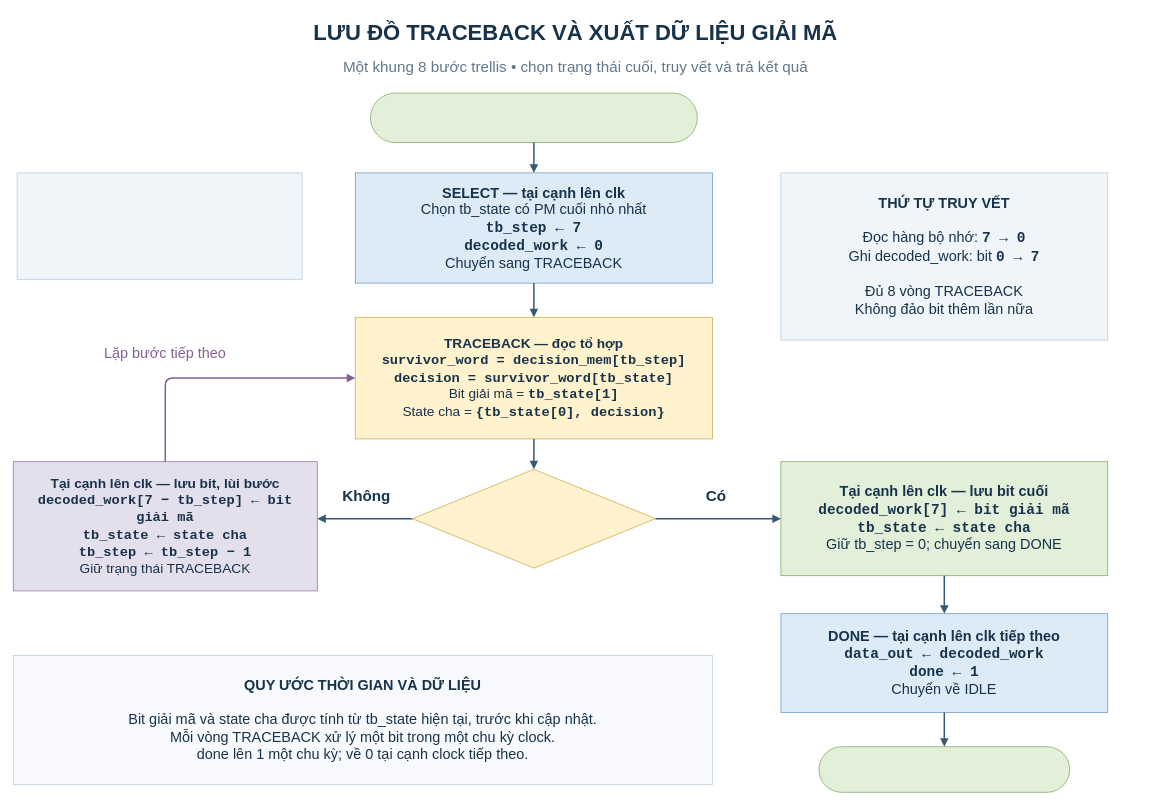
This 1151x806 diagram has some shape labels left out. The centre of each missing label's shape, as x and y in pixels:
"Hoàn tất giải mã khung" belongs at point 944,769.
"PHÁ HÒA KHI CHỌN PM CUỐI Ưu tiên trạng thái: 00 → 01 → 10 → 11" belongs at point 159,225.
"tb_step == 0 ?" belongs at point 534,518.
"Đã xử lý đủ 8 bước FORWARD" belongs at point 533,117.
